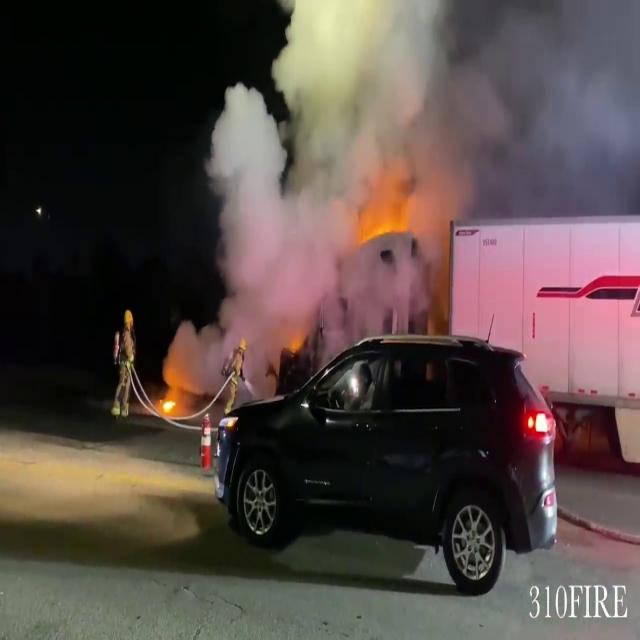Fire: (154, 386, 183, 419)
Smoke: (191, 0, 639, 324)
